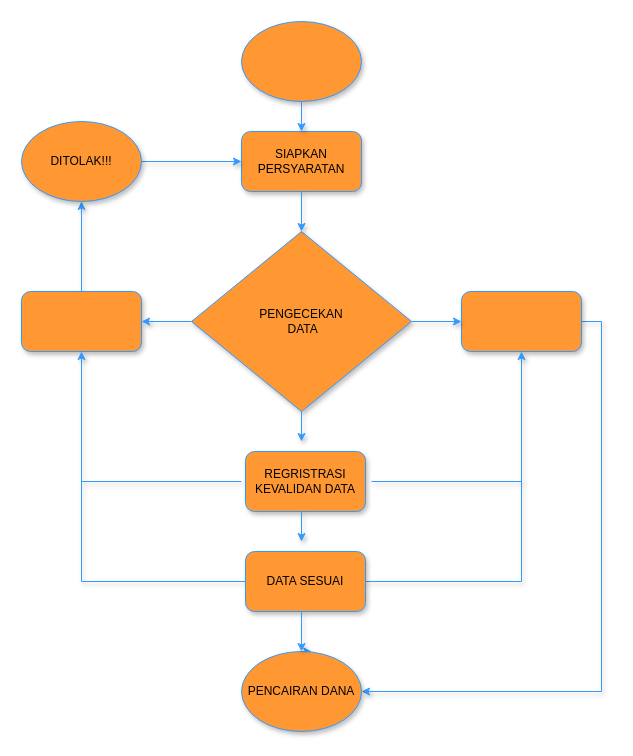
Some shapes in this 633 by 756 pixel diagram are drawn without their labels. The shapes that lost their labels are listed below. From the top down, each one's centre as x and y in pixels, then its label:
(302,62): START
(82,322): UMUR DAN PENGHASILAN TIDAK SESUAI
(522,322): UMUR DAN PENGASILAN SESUAI
